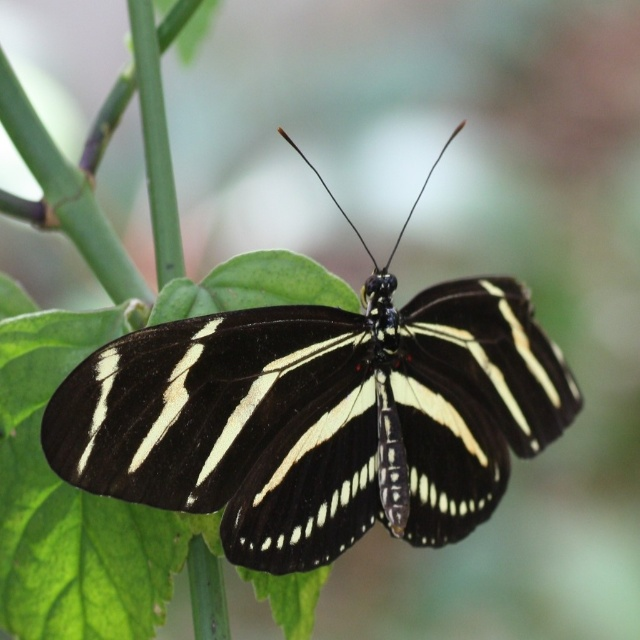Butterfly: (40, 119, 586, 577)
